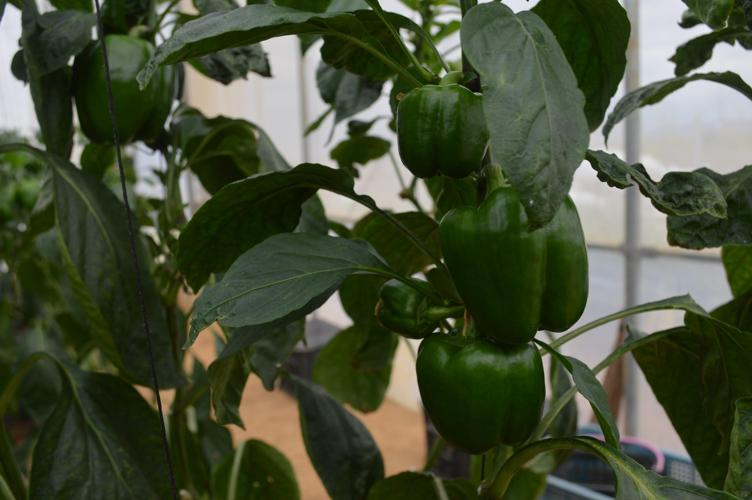BellPepper: (432, 189, 595, 337), (413, 332, 578, 465), (69, 27, 178, 148), (382, 76, 498, 179), (360, 271, 449, 346)
